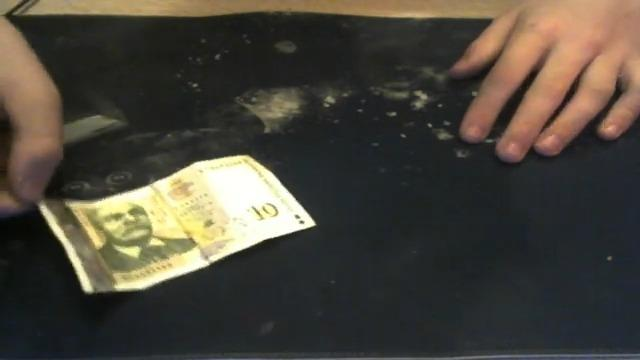10leva: (40, 155, 316, 296)
